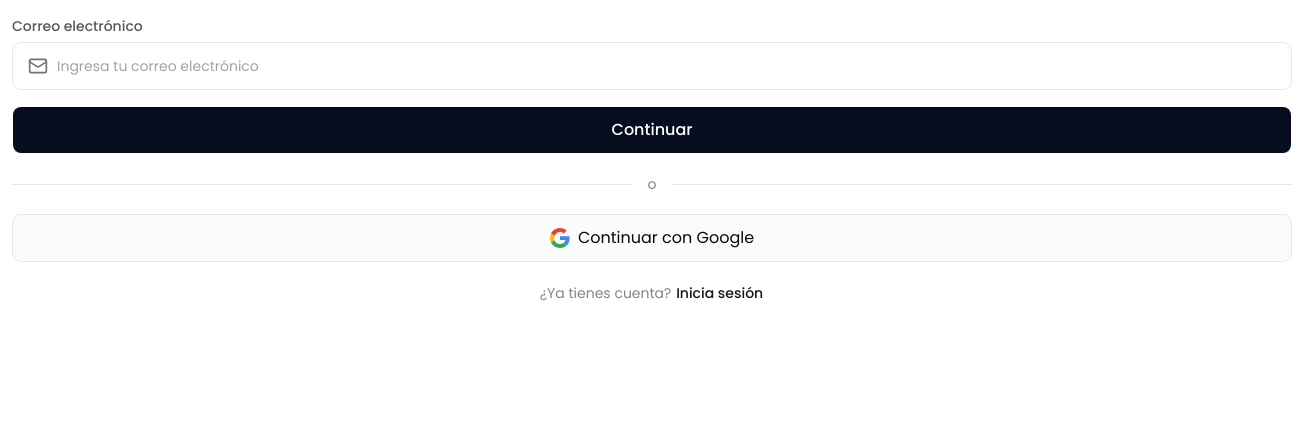
Test case: submitting › points an already-registered address at signing in
The width and height of the screenshot is (1304, 436).
Type "ana@ejemplo.com" into the field labelled "Correo electrónico" at point(652, 66), box 12,42 -> 1292,90
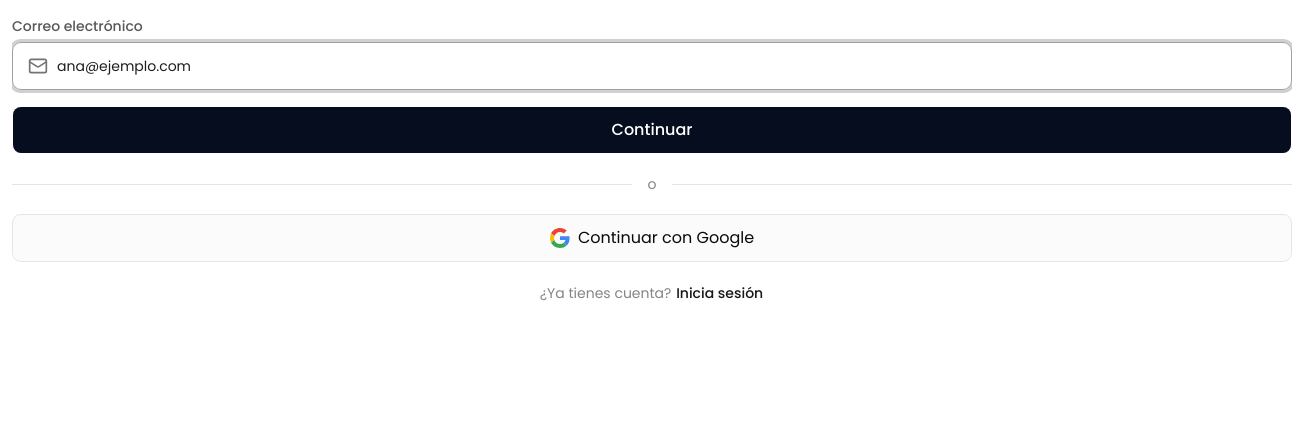
Click the button "Continuar" at point(652, 130), box 12,106 -> 1292,154
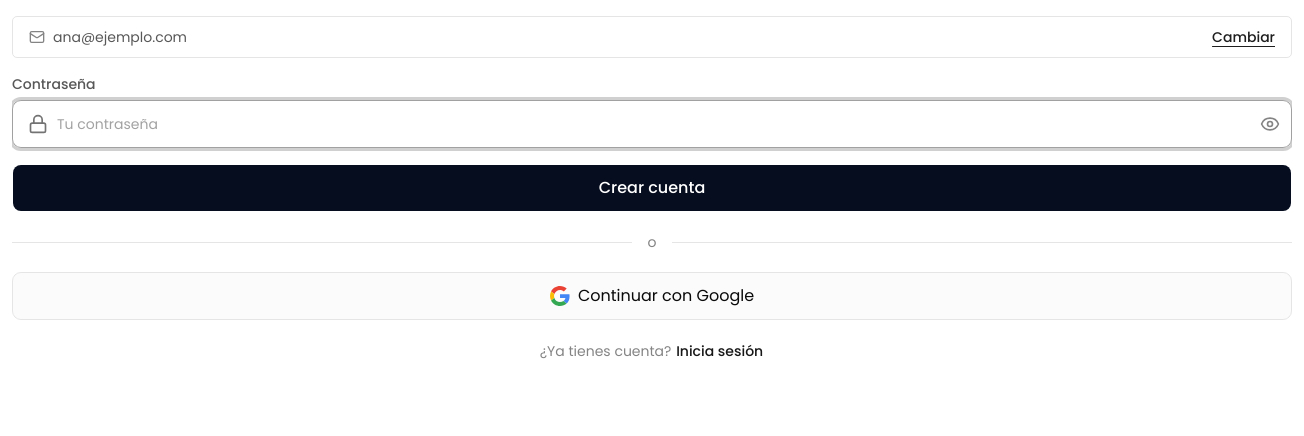
Type "unaClave123" into the password field labelled "Contraseña" at point(652, 124), box 12,100 -> 1292,148
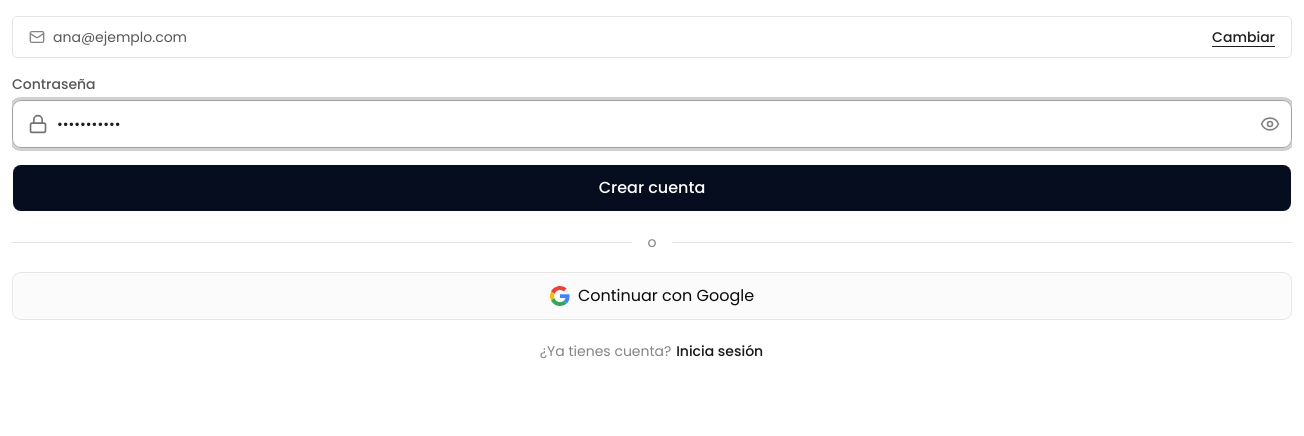
Click the button "Crear cuenta" at point(652, 188), box 12,164 -> 1292,212
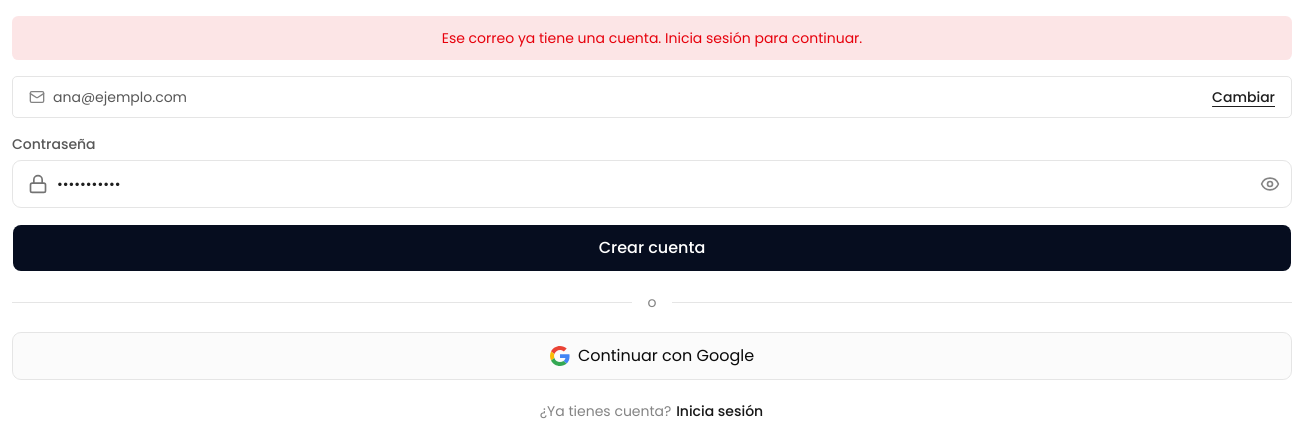
Expected: the message reads "Ese correo ya tiene una cuenta. Inicia sesión para continuar.", 442,28 -> 862,48
